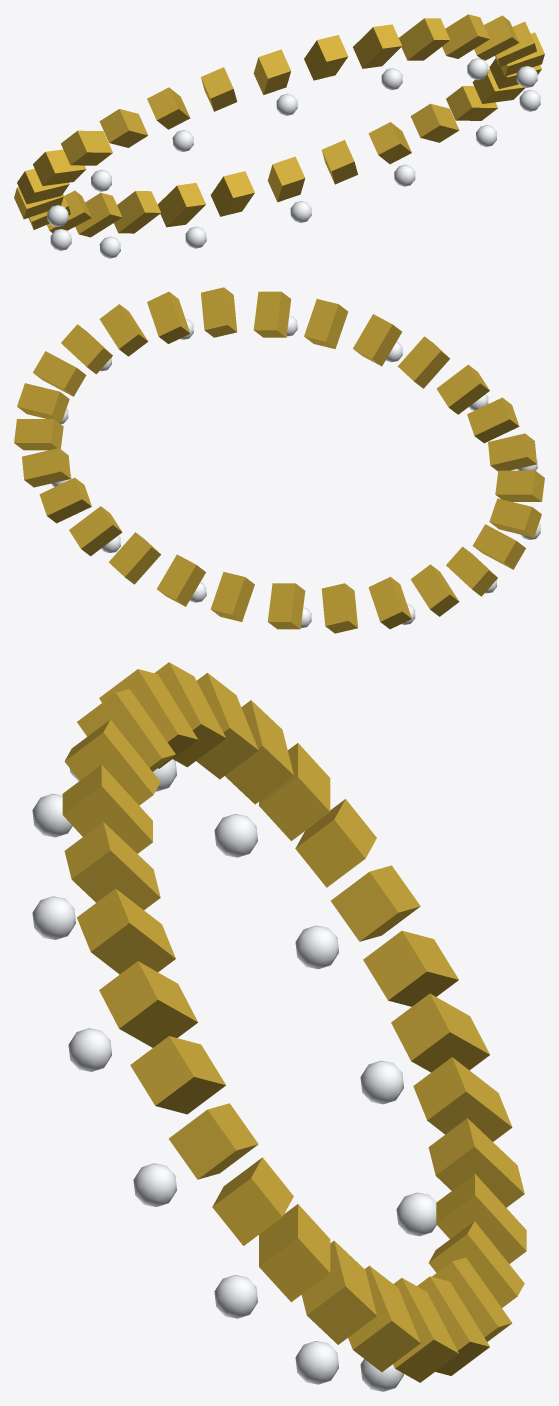
File: aria-paperclip-bracelet.glb
3 renders of one model, top to bottom at view 1: azimuth 30°, elevation 25°; view 2: azimuth 150°, elevation 25°; view 3: azimuth 270°, elevation 25°, orthographic. The views are drawn at different scales.
Visible parts, largest first — view 1: bracelet_link (×28), bracelet_gem (×14); view 2: bracelet_link (×28); view 3: bracelet_link (×28), bracelet_gem (×11).
Boxes of the visible parts, bbox=[...] form: bracelet_link (×28): bbox=[14, 14, 544, 237]; bracelet_gem (×14): bbox=[47, 58, 540, 258]; bracelet_link (×28): bbox=[14, 287, 544, 633]; bracelet_link (×28): bbox=[62, 662, 526, 1382]; bracelet_gem (×11): bbox=[32, 793, 436, 1391].
Size of the model in its own units: 2.32 by 1.12 by 0.9785.
